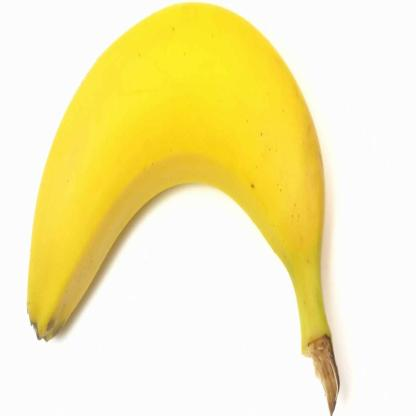banana: (3, 0, 341, 288)
